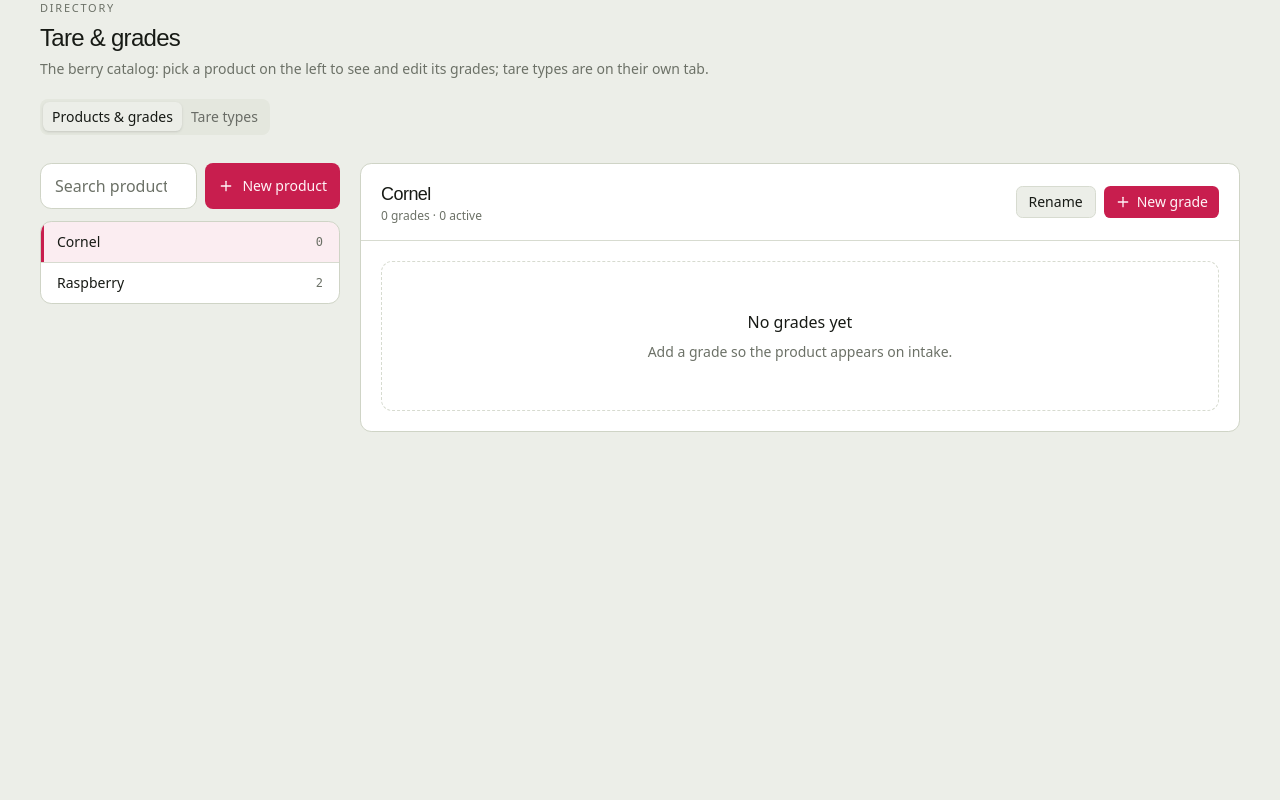
Scenario: CatalogPage › the tare dialog money fields (#72) › refuses a half-typed «12.» with the shared message and sends nothing
The width and height of the screenshot is (1280, 800).
Click the tab "Tare types" at (224, 116), box [182, 102, 267, 131]
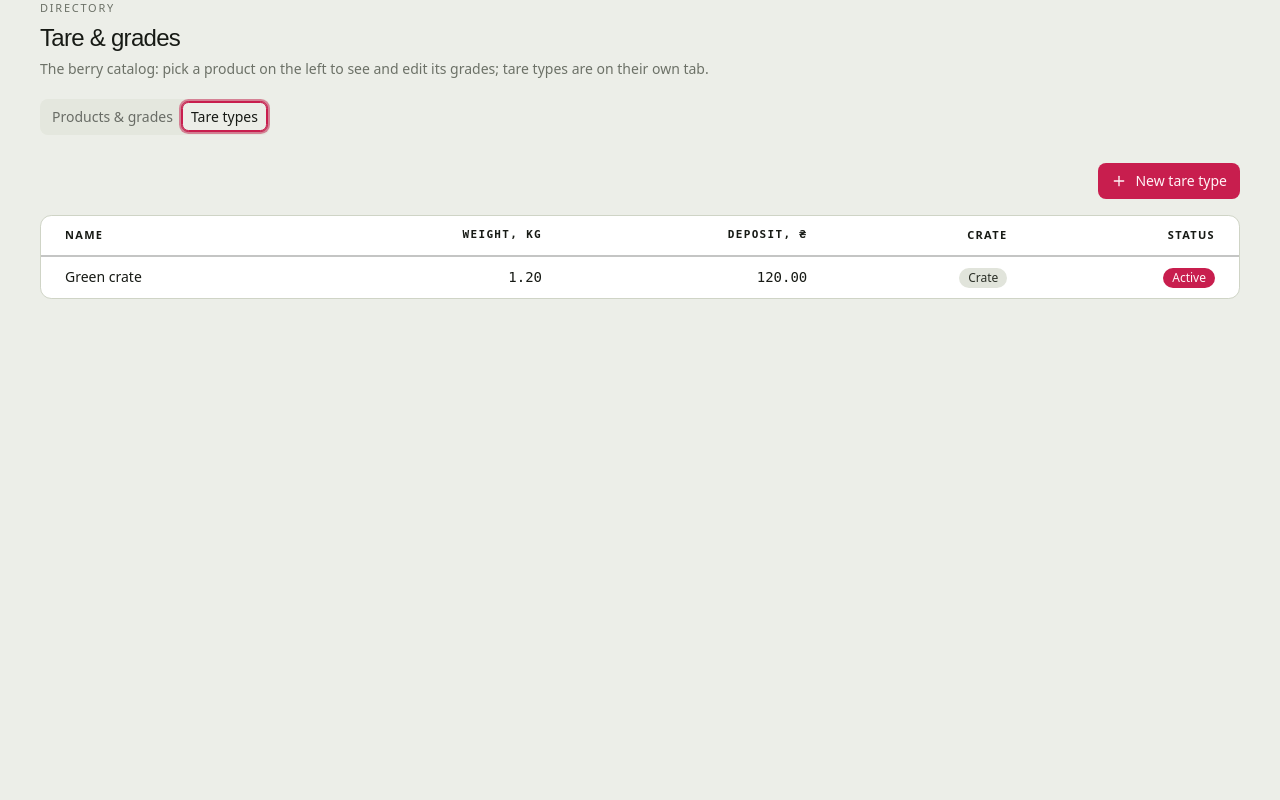
Click the button "New tare type" at (1169, 180), box [1098, 162, 1240, 198]
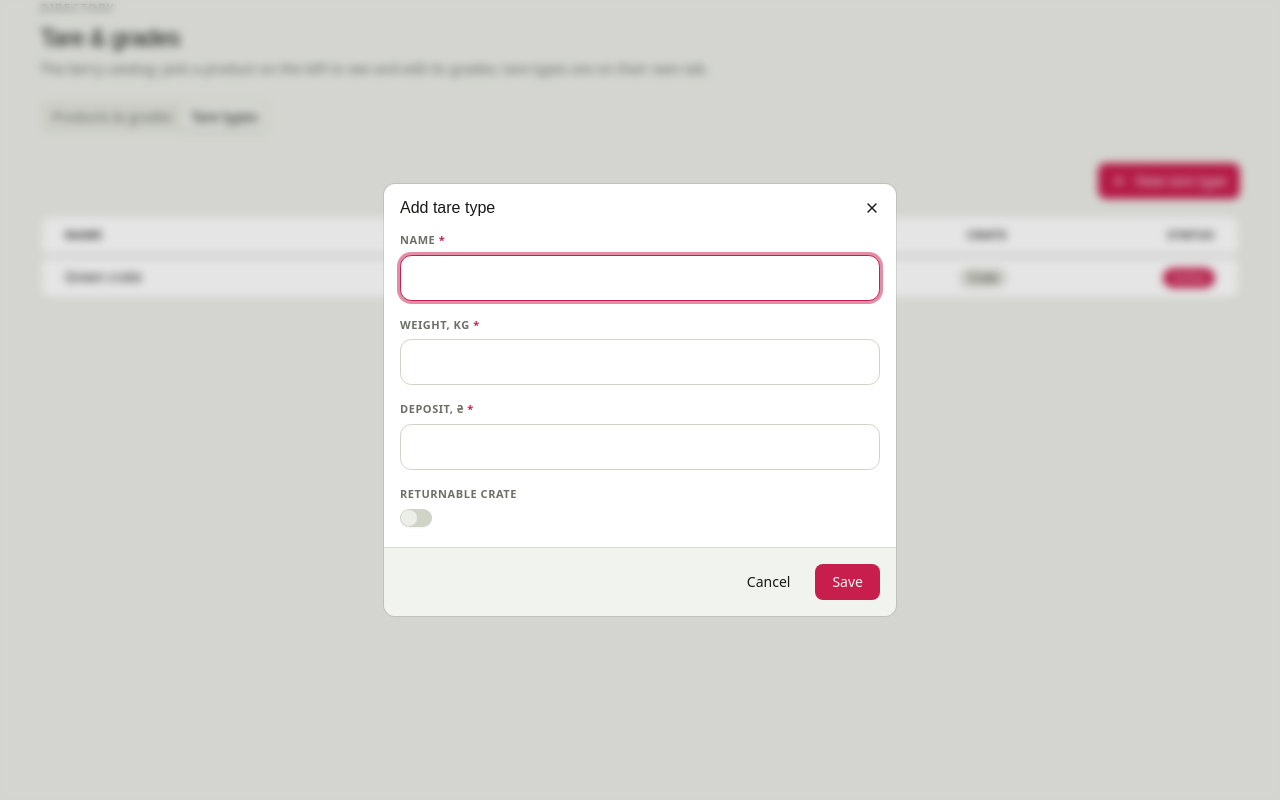
Type "Blue crate" into the field labelled "Name" at (640, 278), box [400, 255, 880, 301]
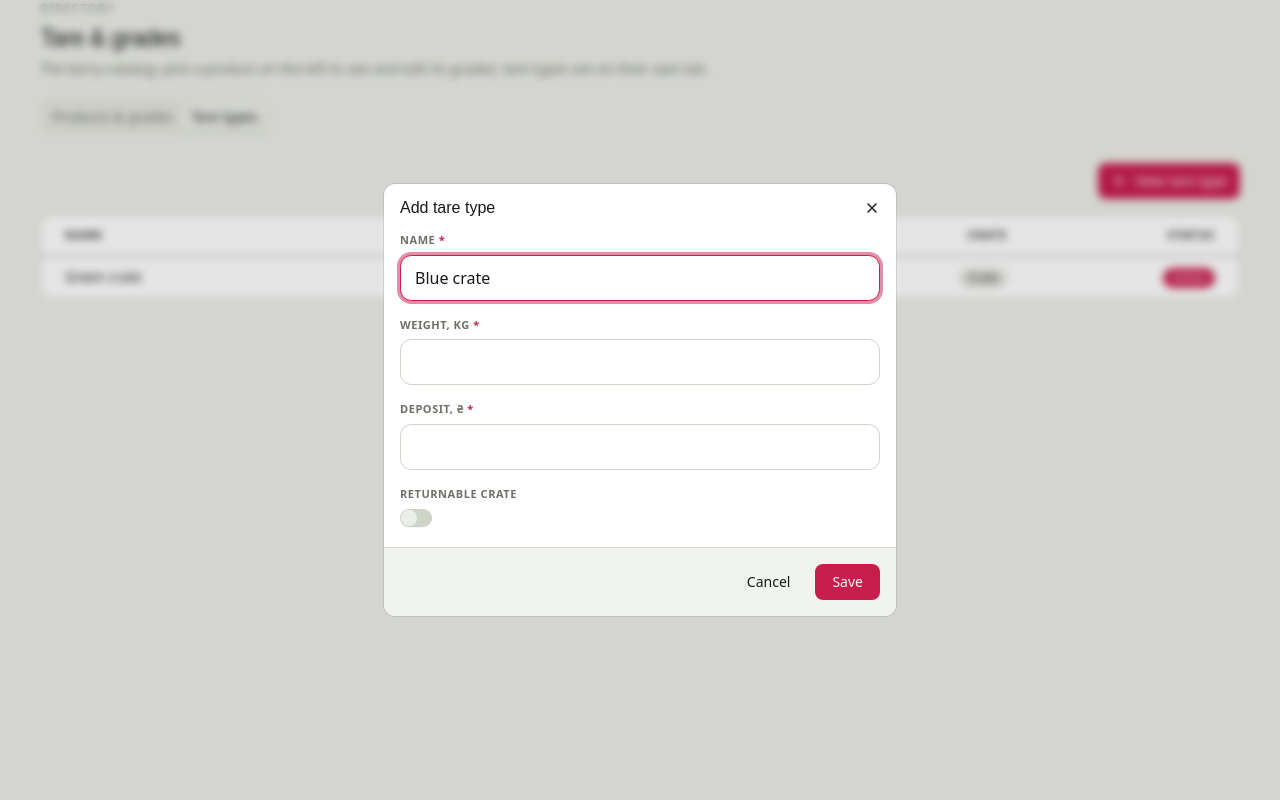
Type "12." into the field labelled "Weight, kg" at (640, 362), box [400, 339, 880, 385]
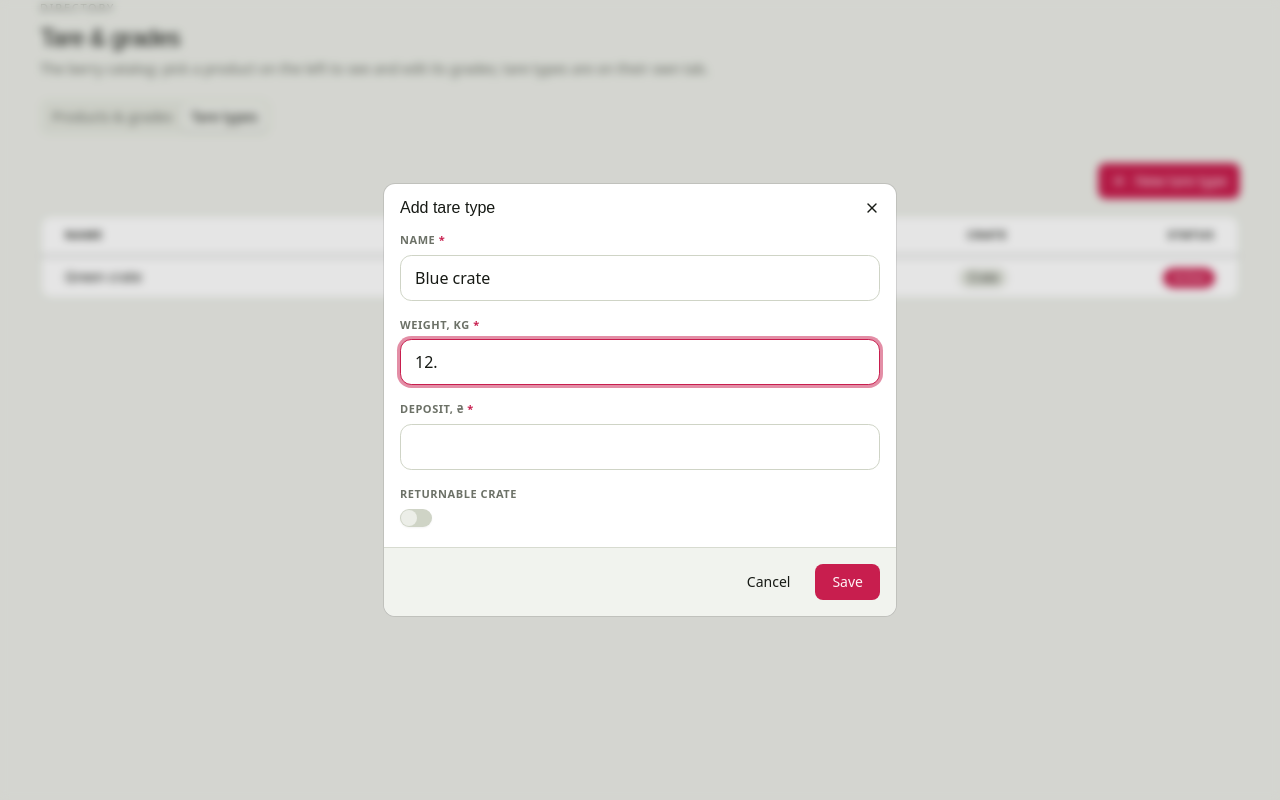
Type "100" into the field labelled "Deposit, ₴" at (640, 447), box [400, 424, 880, 470]
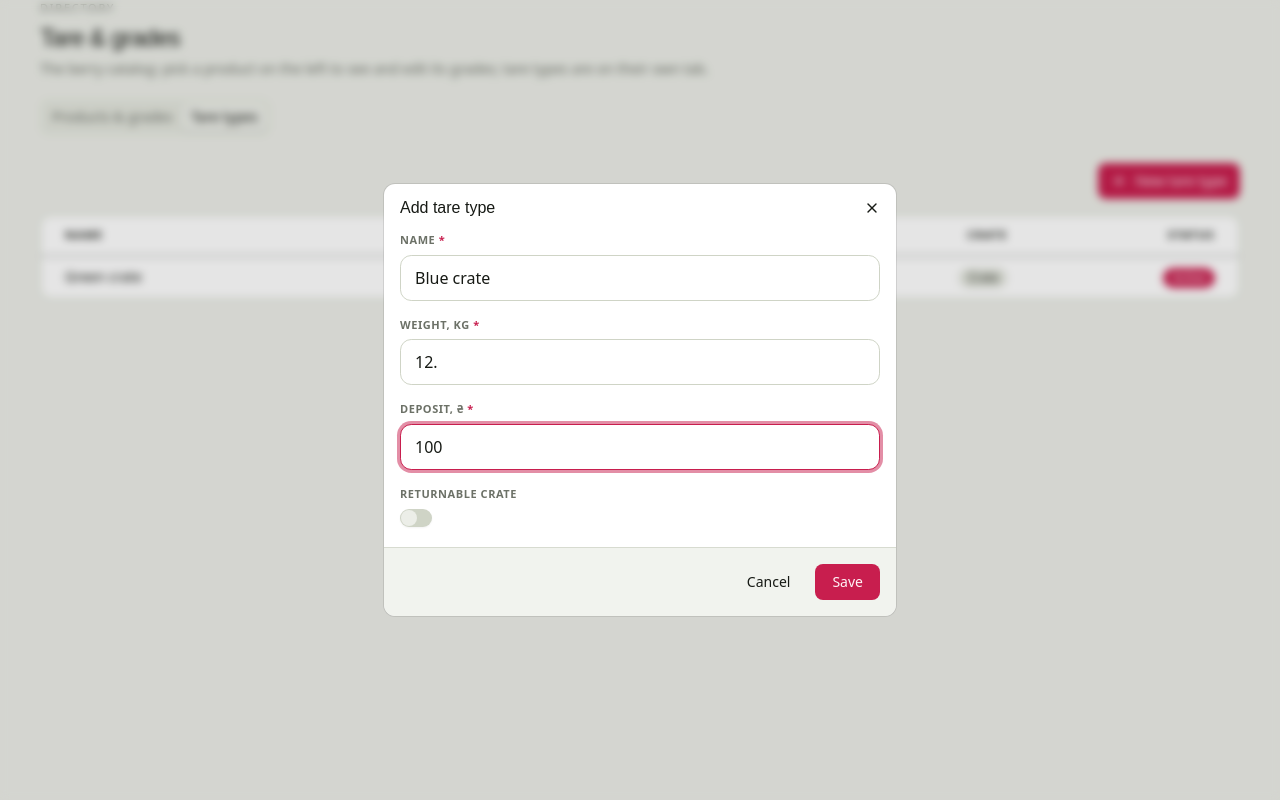
Click the button "Save" at (848, 582), box [815, 564, 880, 600]
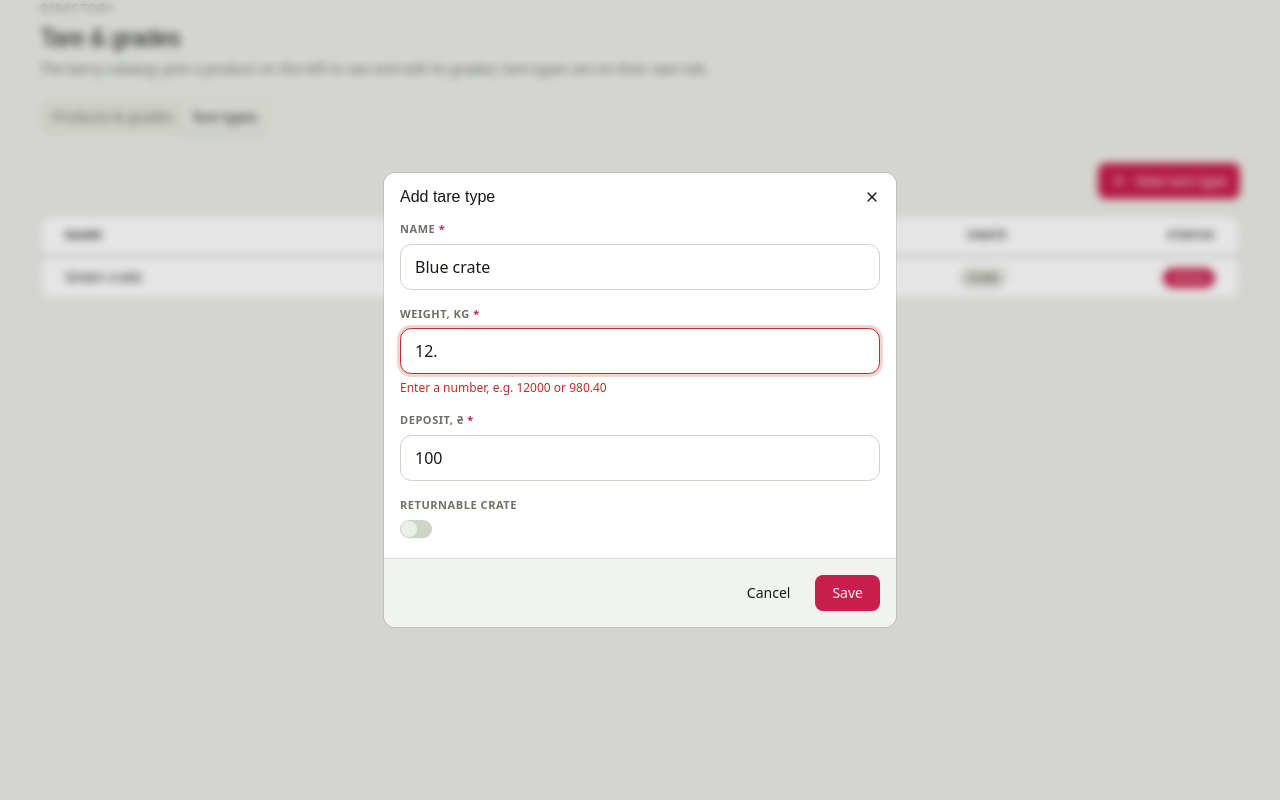
Check: the text "Enter a number, e.g. 12000 or 980.40" is shown, box [400, 379, 607, 396]
